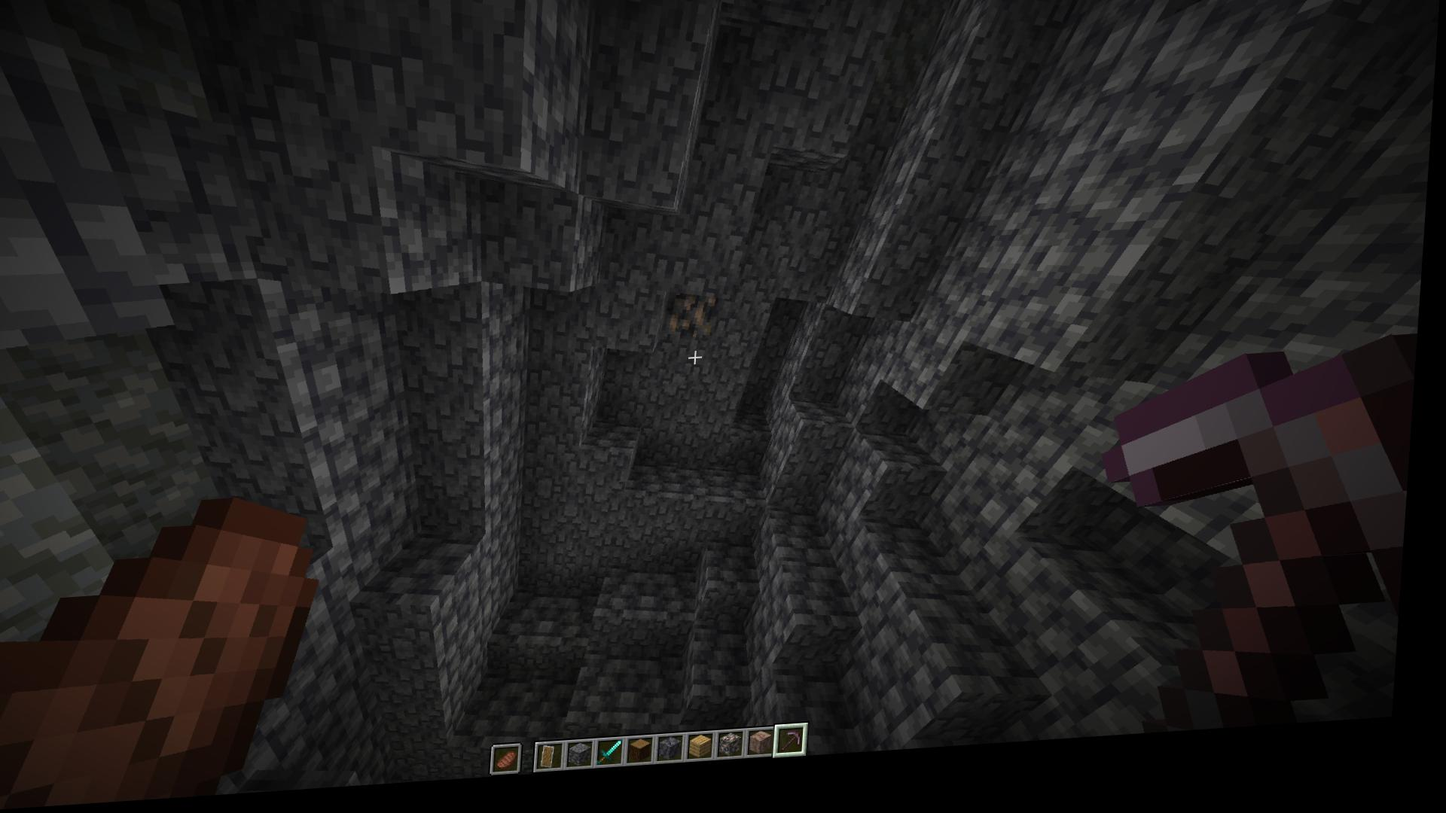iron ore: (670, 289, 731, 355)
